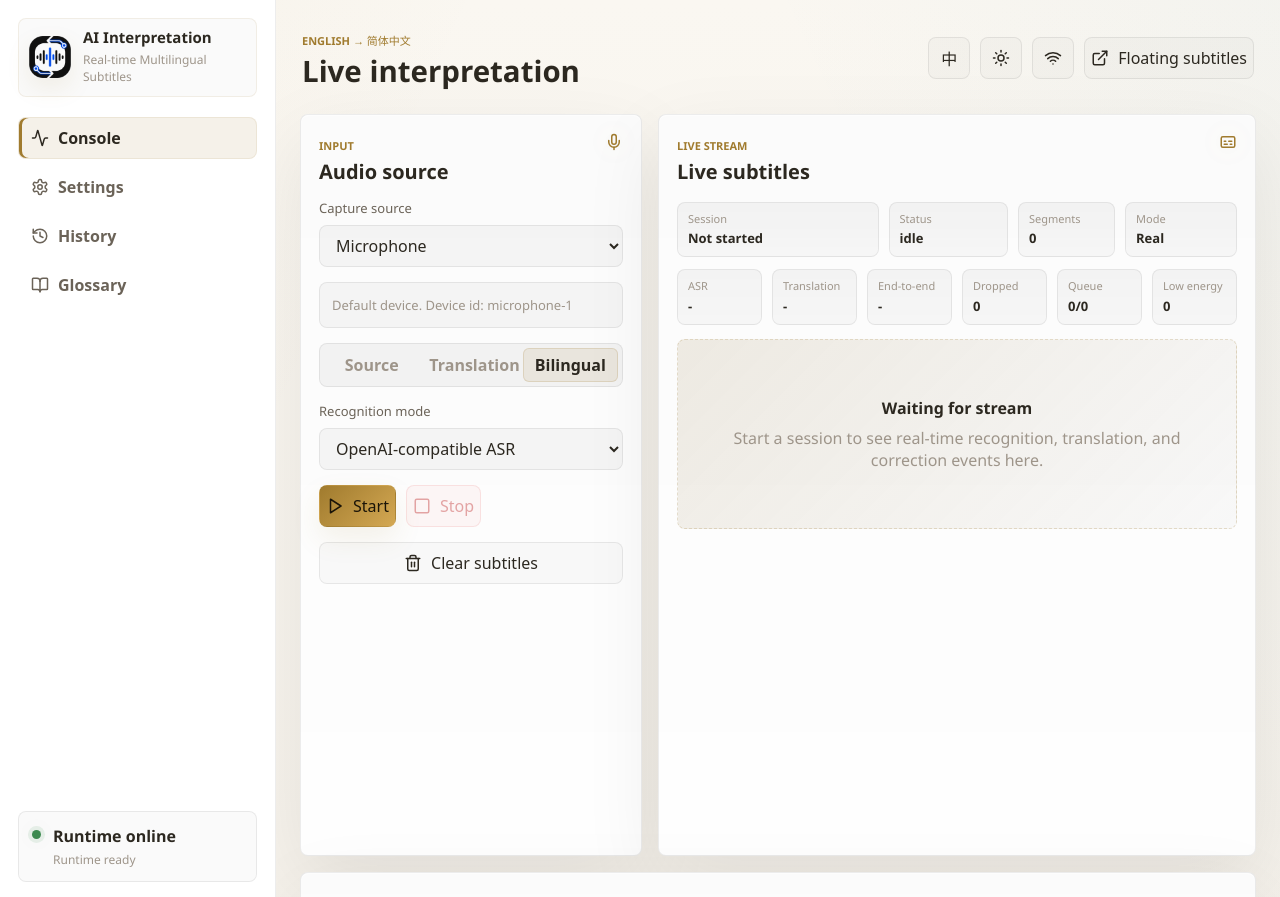
Test: App desktop flows › loads a selected history session
The image size is (1280, 897).
Expected: the text "Runtime ready" is shown, [53, 851, 136, 868]
Click the button "History" at point(138, 236), box [18, 214, 257, 256]
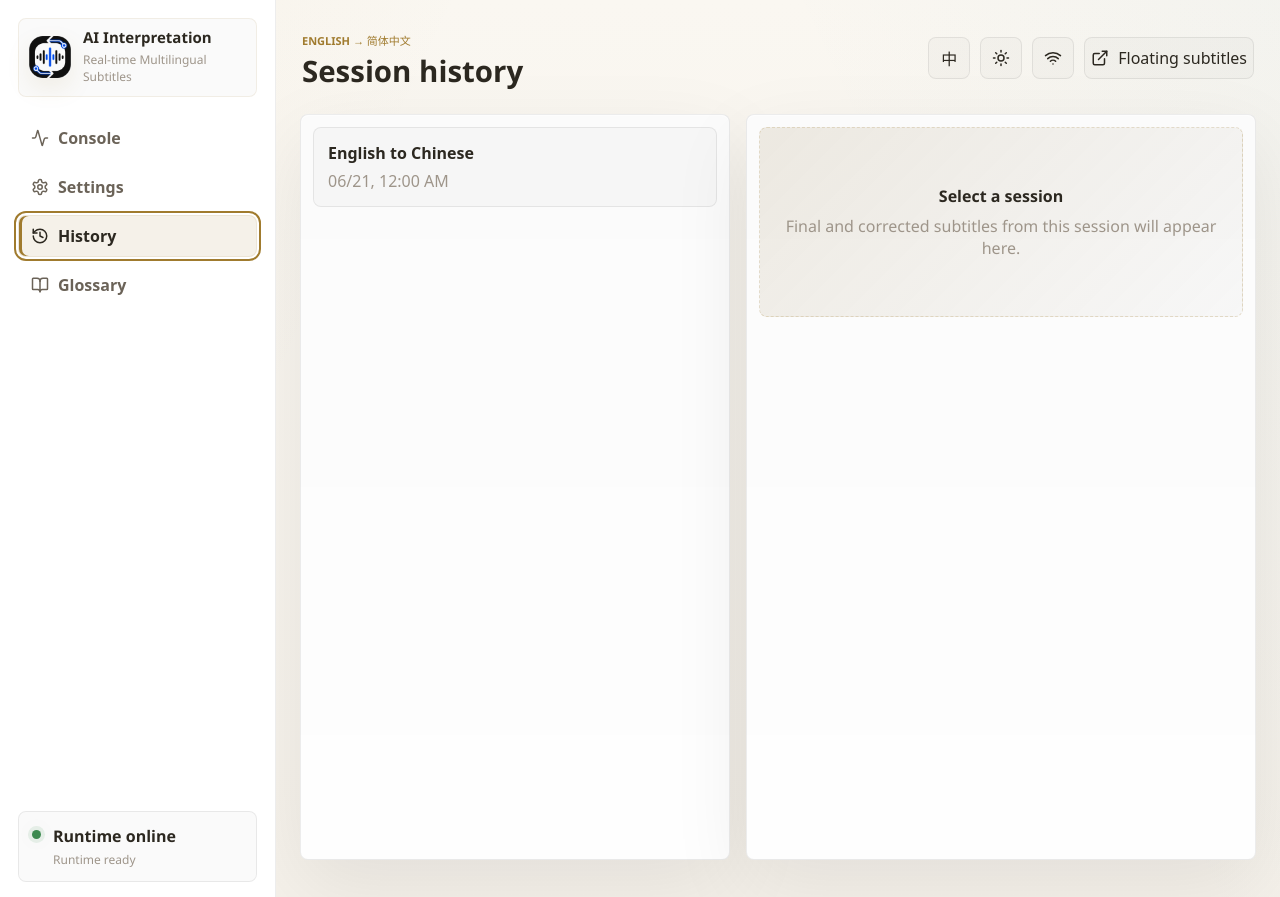
Click the button "English to Chinese 06/21, 12:00 AM" at point(401, 153), box [313, 127, 717, 207]
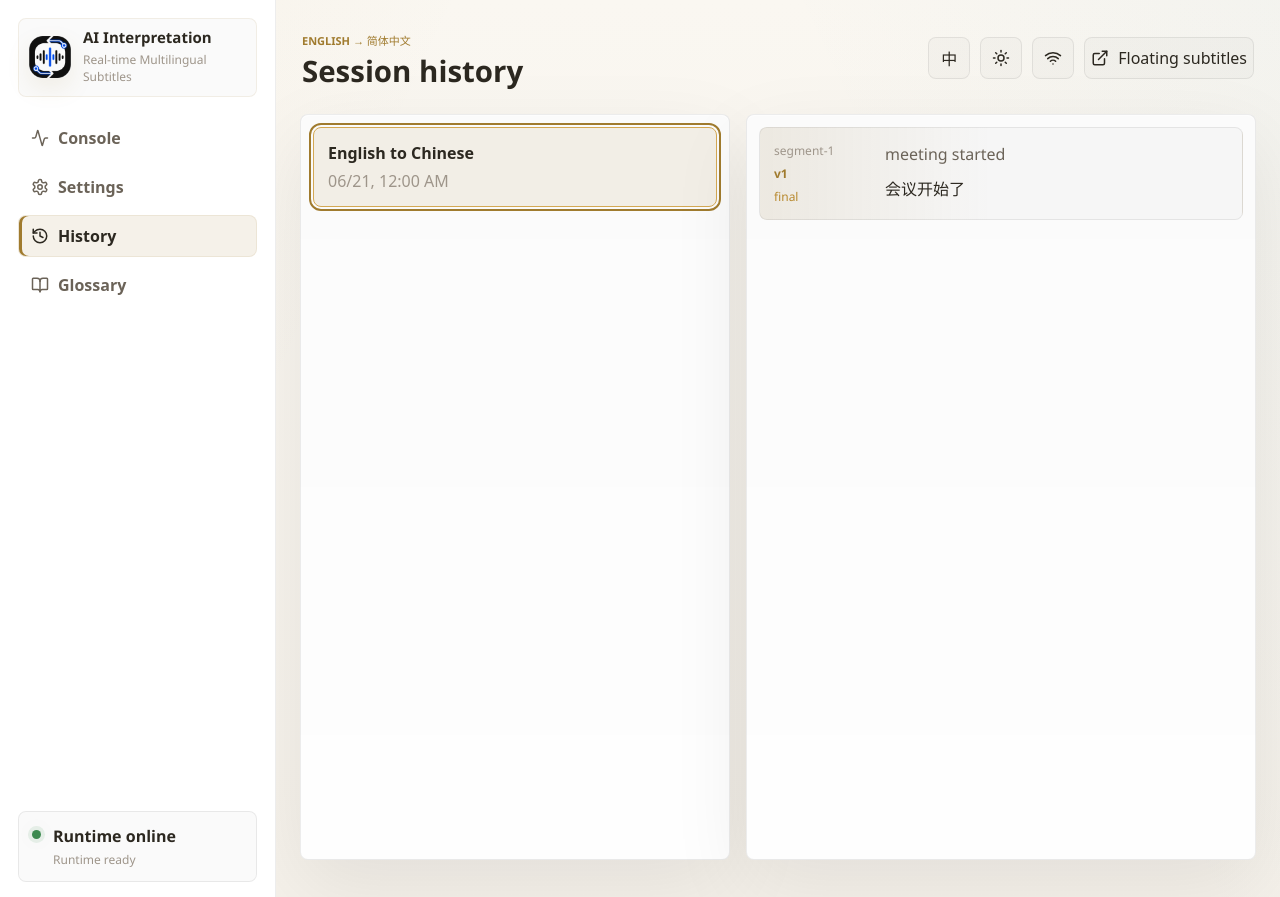
Now the text "meeting started" is shown, box [885, 143, 1006, 165]
Now the text "会议开始了" is shown, box [885, 178, 965, 200]
